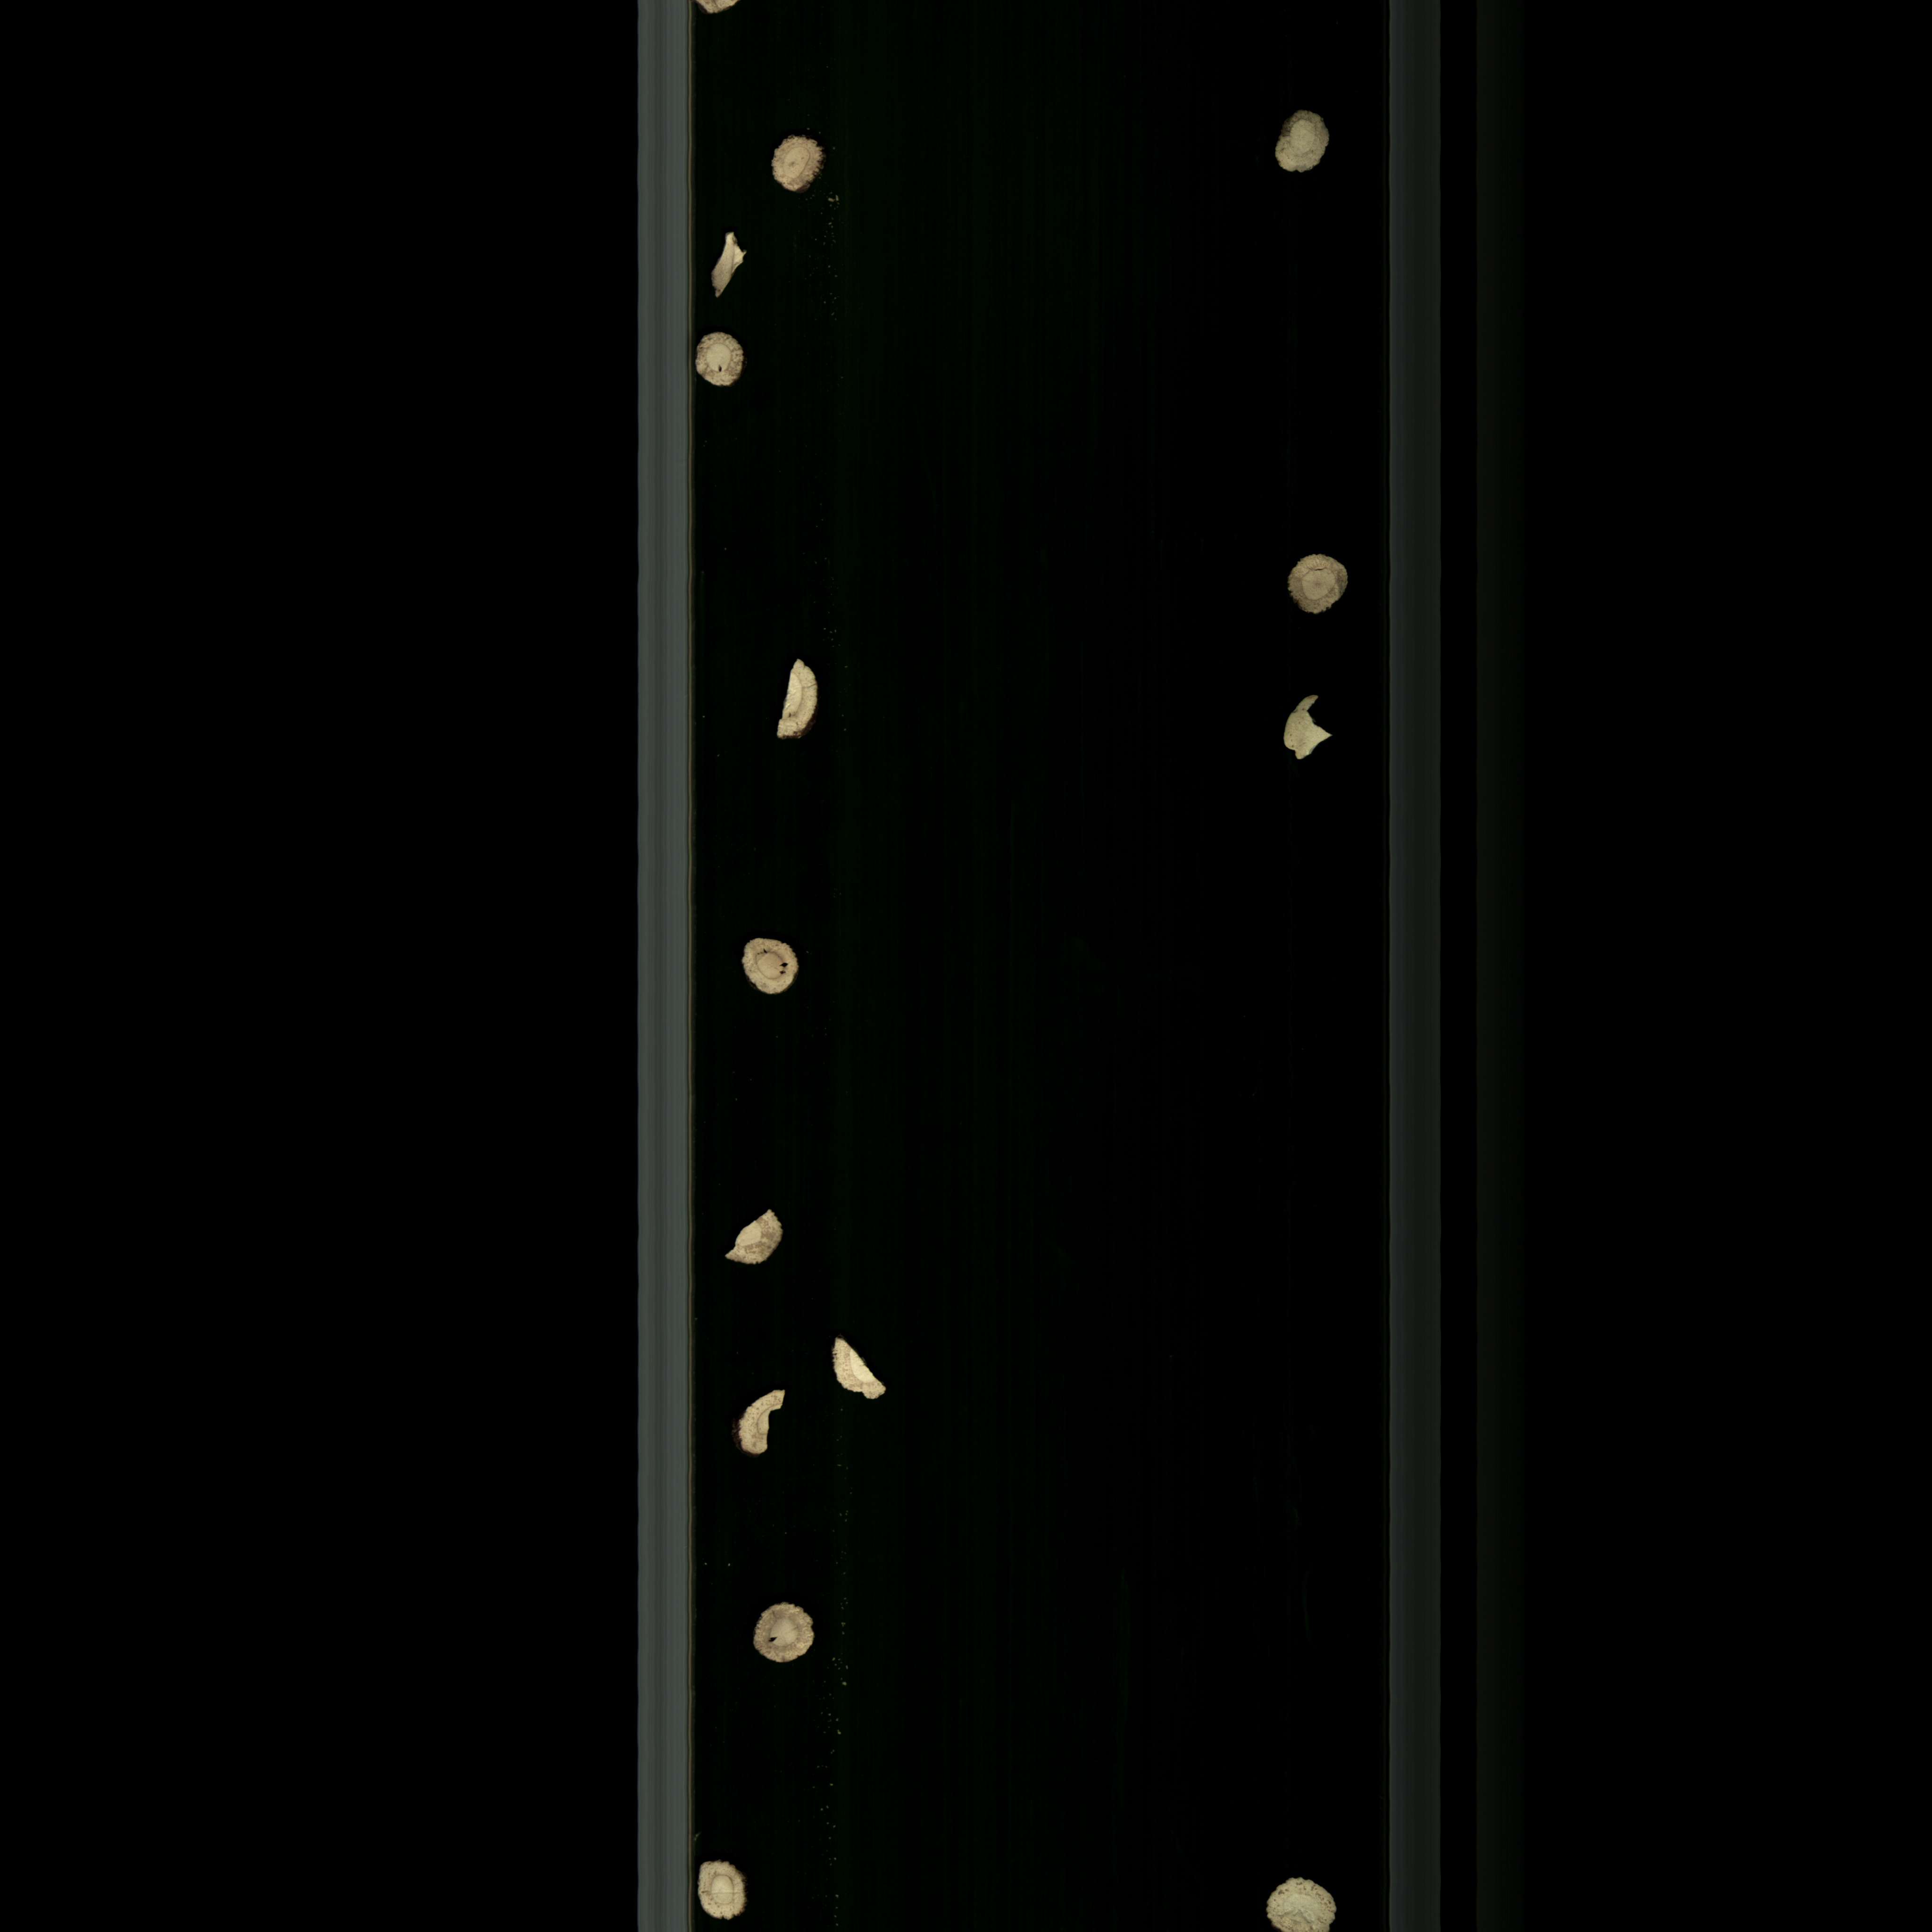debris: (823, 1332, 892, 1408), (770, 653, 823, 747), (722, 1200, 787, 1272), (738, 1384, 794, 1461)
distortion: (704, 225, 755, 301)
dreg: (1279, 683, 1338, 766)
hole: (725, 925, 812, 1010)
moldy: (736, 1592, 830, 1679), (1276, 541, 1355, 626), (761, 131, 833, 198), (1269, 106, 1332, 179), (692, 326, 754, 398)
